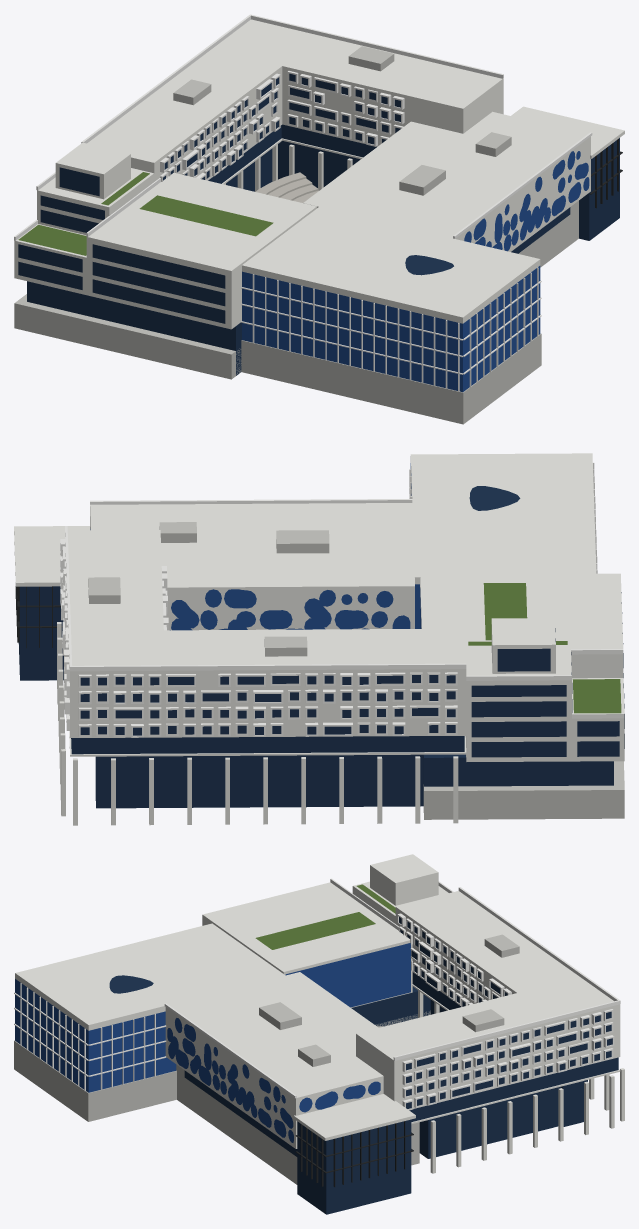
File: akademiya_horeo.glb
3 views of the same model, one above another, from view 1: azimuth 30°, elevation 25°; view 2: azimuth 150°, elevation 25°; view 3: azimuth 270°, elevation 25° (orthographic). The views are drawn at different scales.
Visible parts, largest first — view 1: akademiya_horeo_wall, akademiya_horeo_glass, akademiya_horeo_wall2, akademiya_horeo_wall3, akademiya_horeo_trim, akademiya_horeo_green, akademiya_horeo_stone, akademiya_horeo_metal; view 2: akademiya_horeo_wall, akademiya_horeo_glass, akademiya_horeo_trim, akademiya_horeo_wall2, akademiya_horeo_wall3, akademiya_horeo_green, akademiya_horeo_metal; view 3: akademiya_horeo_wall, akademiya_horeo_glass, akademiya_horeo_wall3, akademiya_horeo_trim, akademiya_horeo_wall2, akademiya_horeo_green, akademiya_horeo_metal.
Boxes of the visible parts, x1,y1,x2,y2 form: akademiya_horeo_wall: (14,19,624,329); akademiya_horeo_glass: (18,73,619,375); akademiya_horeo_wall2: (14,46,578,424); akademiya_horeo_wall3: (242,151,589,392); akademiya_horeo_trim: (14,14,592,391); akademiya_horeo_green: (18,172,273,255); akademiya_horeo_stone: (255,172,318,202); akademiya_horeo_metal: (589,138,622,208); akademiya_horeo_wall: (14,453,624,825); akademiya_horeo_glass: (18,486,624,808); akademiya_horeo_trim: (60,462,624,737); akademiya_horeo_wall2: (88,522,624,819); akademiya_horeo_wall3: (90,463,421,630); akademiya_horeo_green: (468,583,621,713); akademiya_horeo_metal: (15,586,62,648); akademiya_horeo_wall: (15,854,624,1173); akademiya_horeo_glass: (109,917,618,1214); akademiya_horeo_wall3: (15,943,410,1142); akademiya_horeo_trim: (14,878,620,1110); akademiya_horeo_wall2: (14,934,519,1184); akademiya_horeo_green: (255,884,395,949); akademiya_horeo_metal: (295,1121,413,1187).
Bounding box in the file's own units: 143 × 35 × 146.
